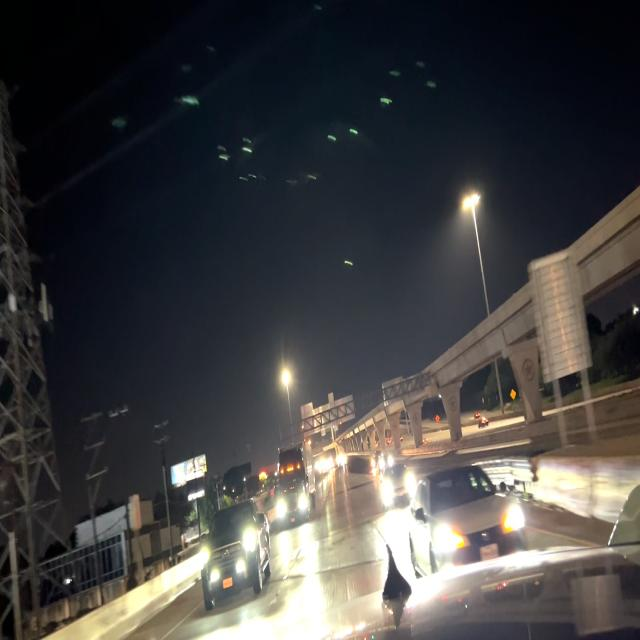back-of-sign: (525, 251, 594, 382), (299, 389, 356, 442), (382, 374, 411, 407)
